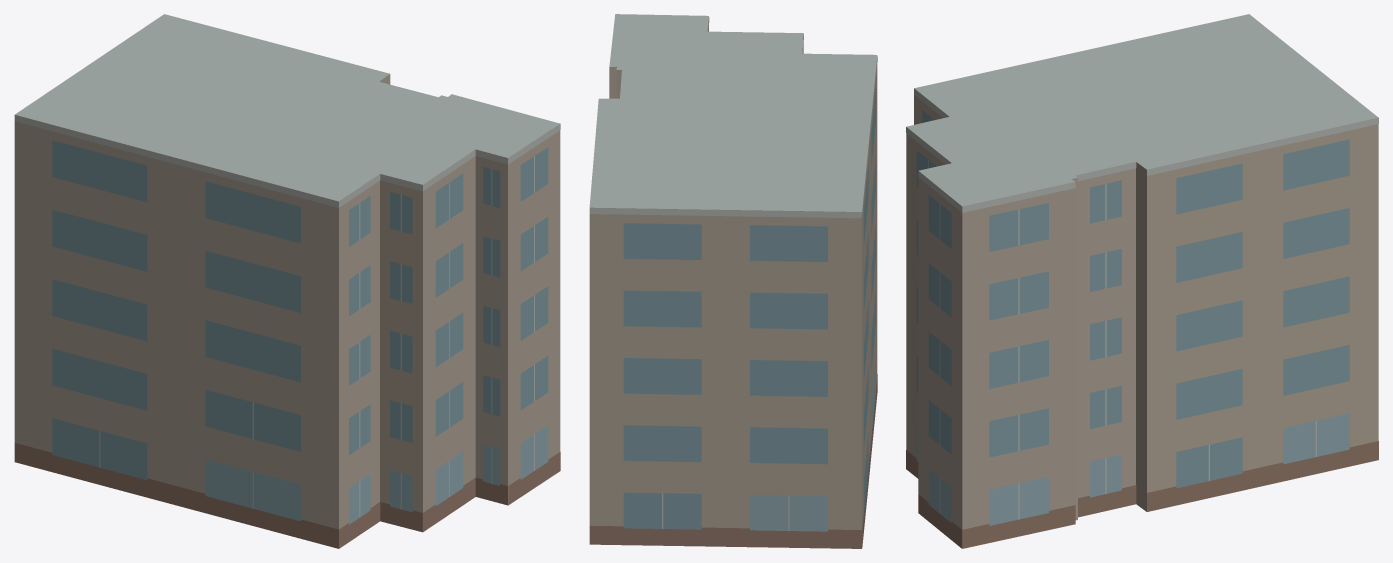
The model's file is survey-upis-32741631.glb.
The picture shows the model from 3 angles, left to right: view 1: azimuth 30°, elevation 25°; view 2: azimuth 150°, elevation 25°; view 3: azimuth 270°, elevation 25°; orthographic projection. The views are drawn at different scales.
Visible parts, largest first — view 1: survey-upis-32741631.tmp; view 2: survey-upis-32741631.tmp; view 3: survey-upis-32741631.tmp.
Part boxes in pixels (x1,y1,x2,y2): survey-upis-32741631.tmp: [14, 14, 560, 548]; survey-upis-32741631.tmp: [589, 14, 877, 548]; survey-upis-32741631.tmp: [906, 14, 1378, 548].
Size of the model in its own units: 15.74 by 13.05 by 16.33.
